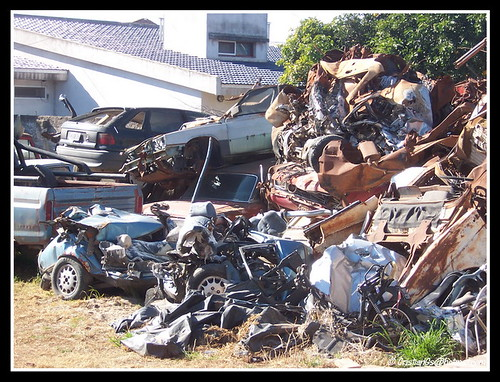building: (15, 12, 284, 126)
car: (58, 105, 209, 178)
trash: (55, 43, 500, 355)
